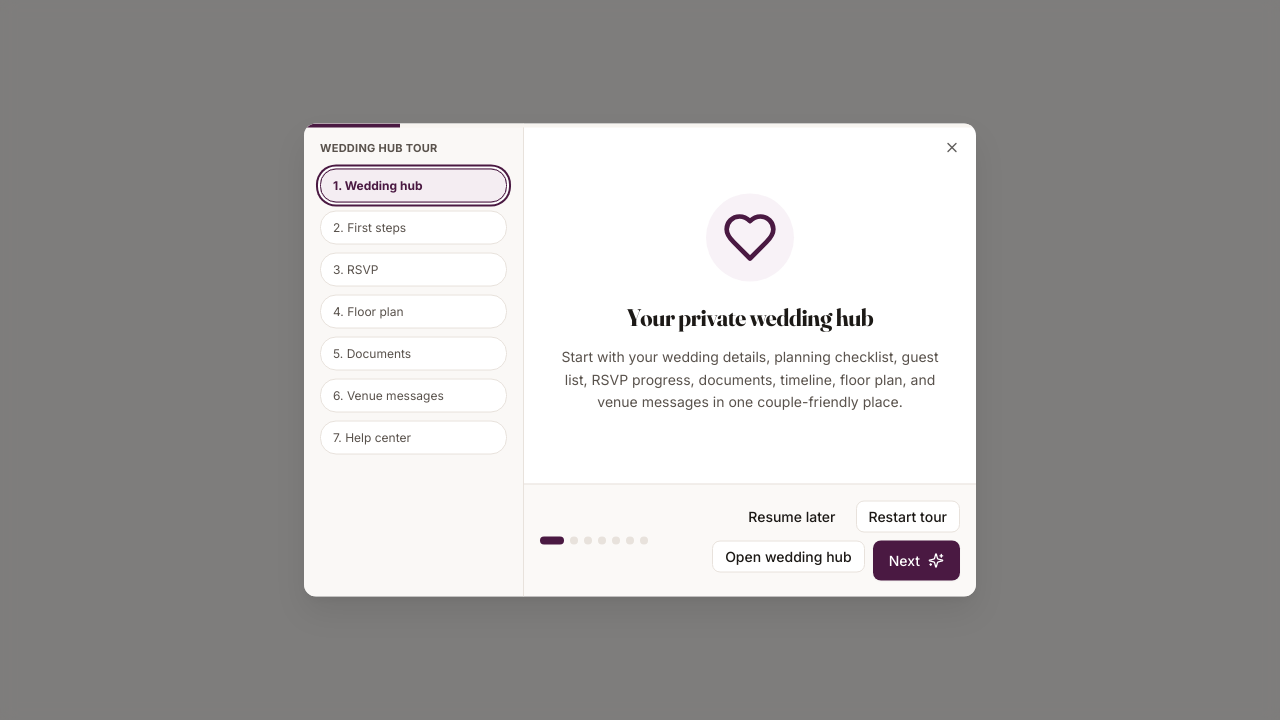
WelcomeModal › renders complete couple onboarding tour for couple role
Expected: the heading "Your private wedding hub" is shown, [626,301,873,333]
Expected: the text "wedding details, planning checklist" is shown, [562,347,939,410]
Click the button "Next". click: coordinates (916, 560)
box: [873,540,960,580]
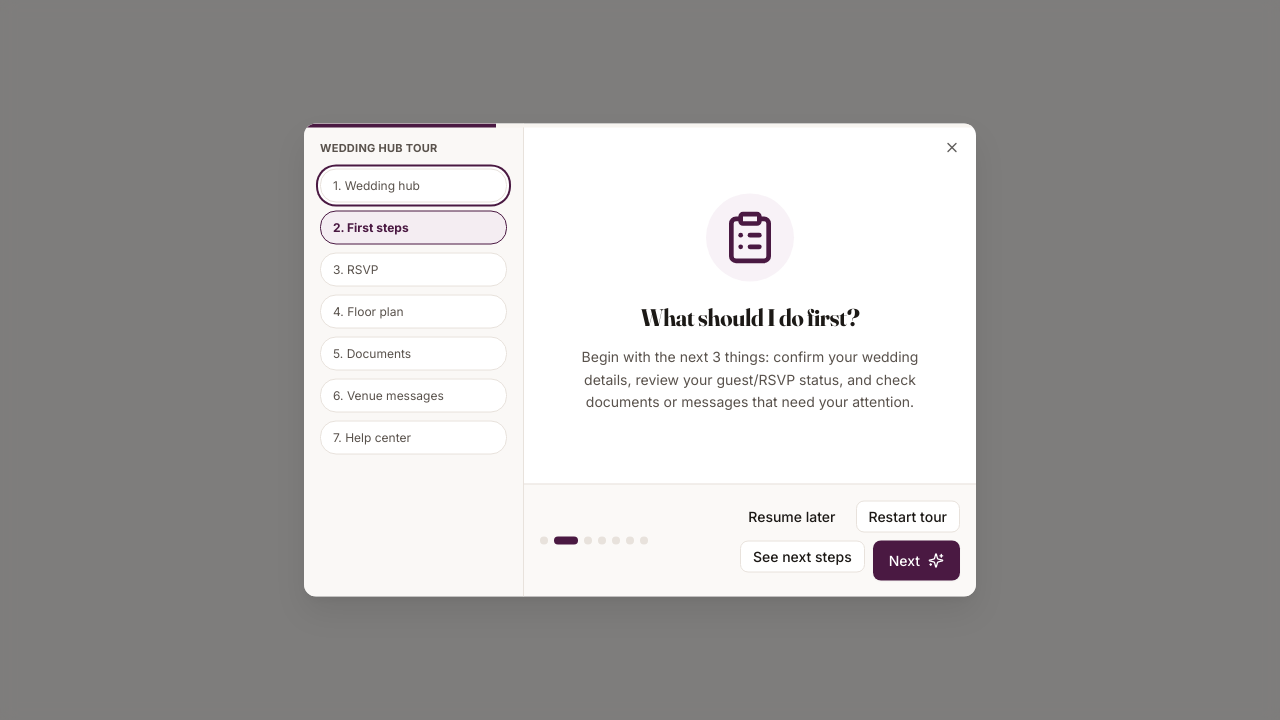
Expected: the heading "What should I do first?" is shown, [640,301,860,333]
Click the button "Next". click: coordinates (916, 560)
box: [873,540,960,580]
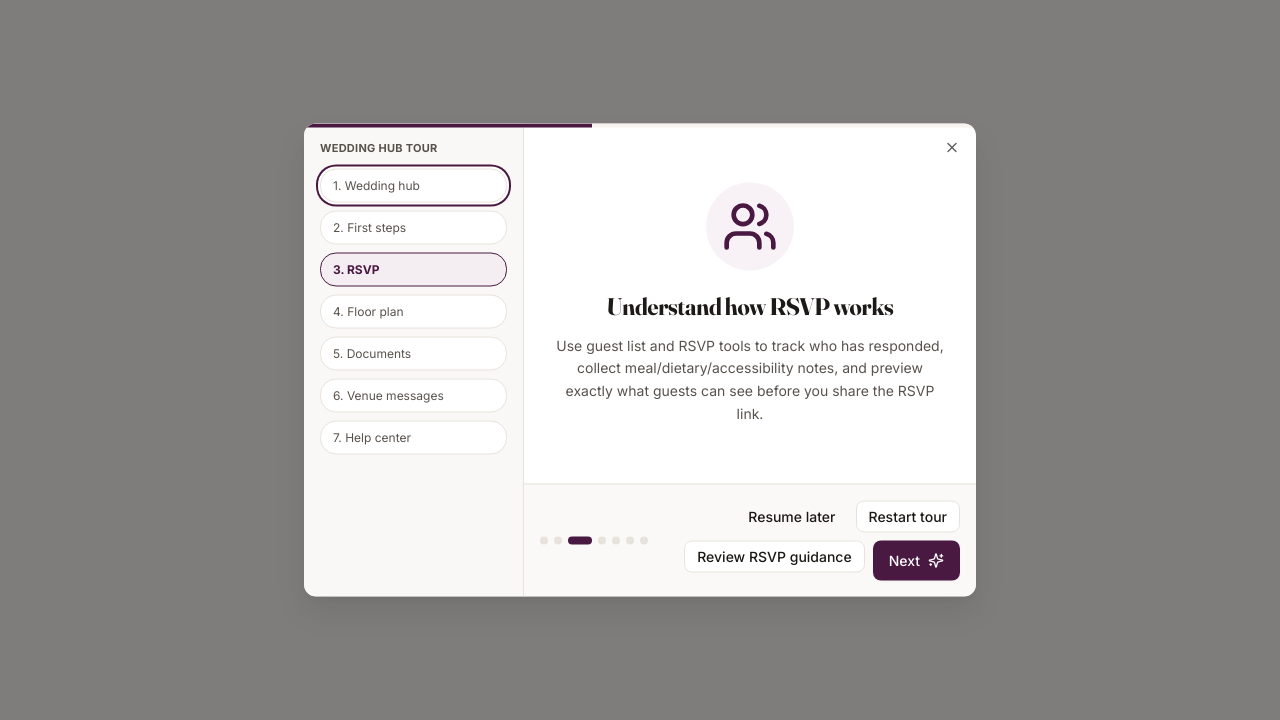
Expected: the heading "Understand how RSVP works" is shown, [606,290,894,322]
